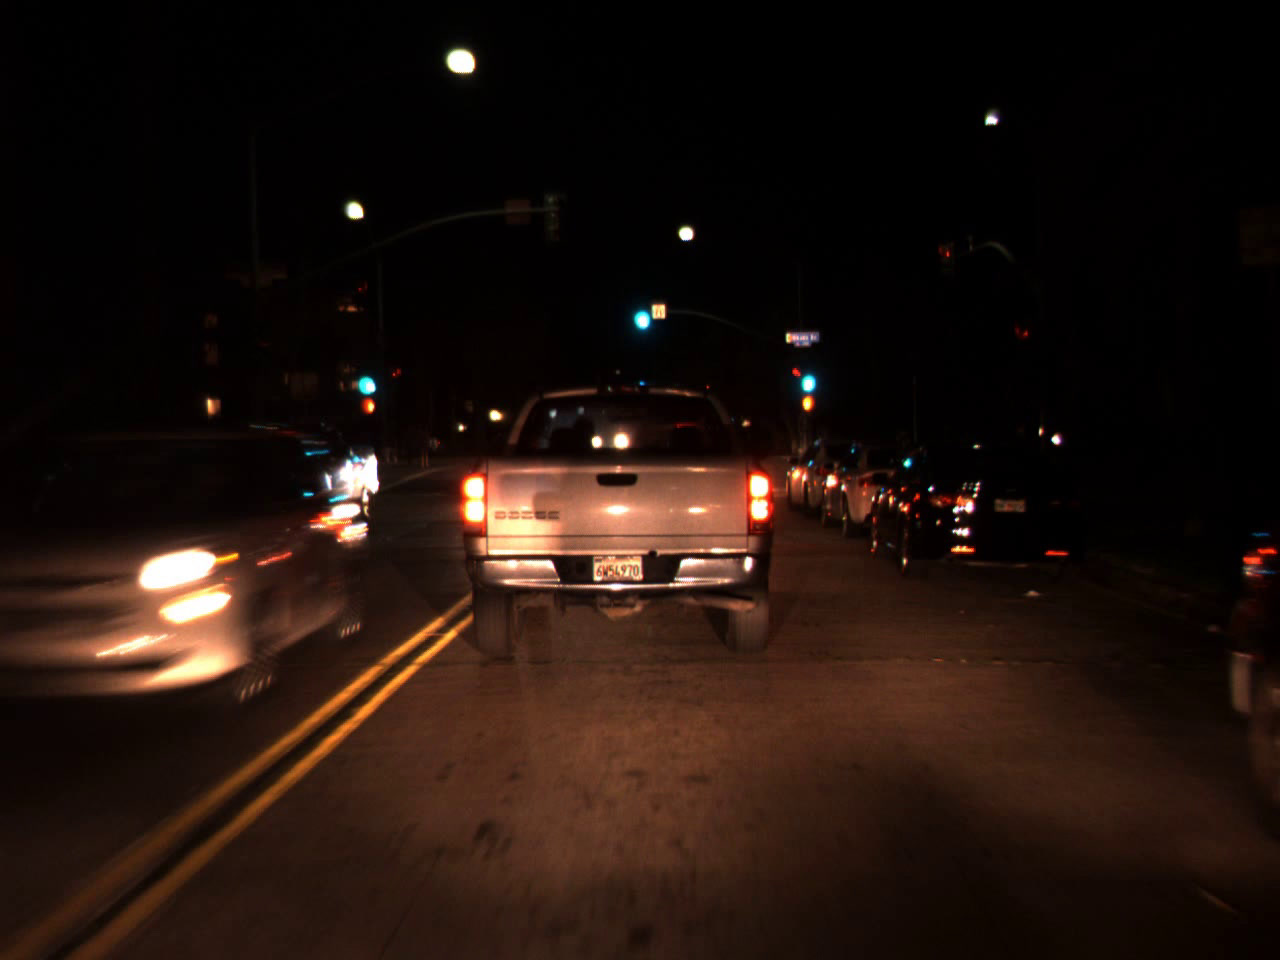go: (352, 354, 377, 402), (628, 288, 653, 336), (795, 352, 818, 400)
